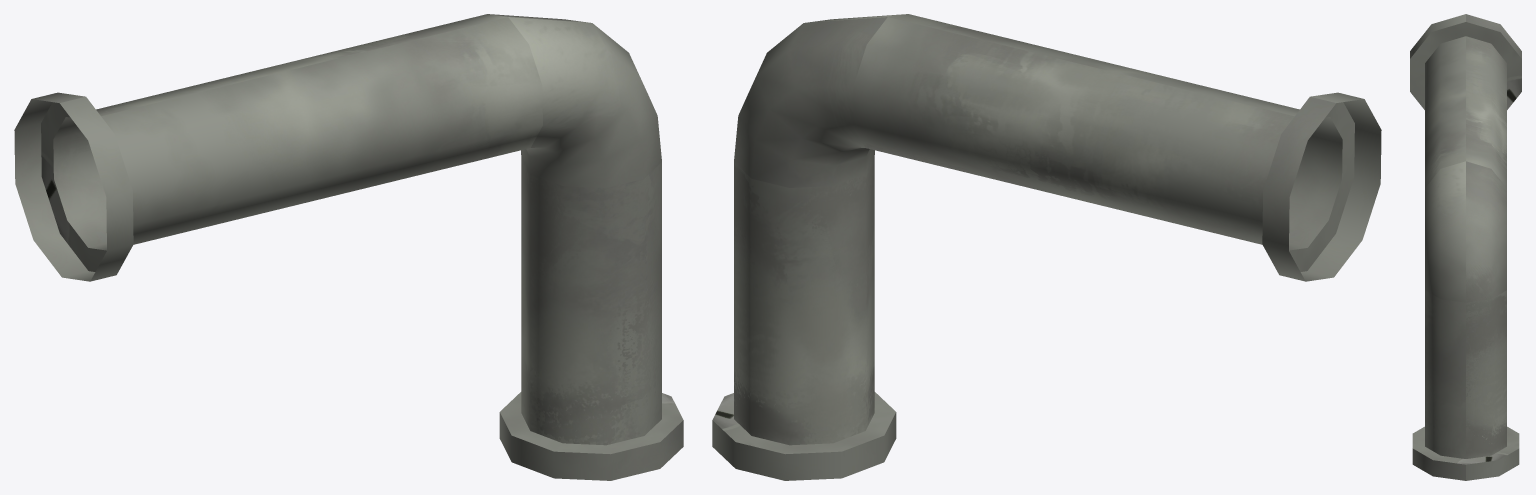
Rendered from pipe_2_04.fbx.
The picture shows the model from 3 angles, left to right: view 1: azimuth 30°, elevation 25°; view 2: azimuth 150°, elevation 25°; view 3: azimuth 270°, elevation 25°; orthographic projection. The views are drawn at different scales.
Visible parts, largest first — view 1: Object037; view 2: Object037; view 3: Object037.
Boxes of the visible parts, <box> form: Object037: <box>14,14,683,480</box>; Object037: <box>712,14,1381,480</box>; Object037: <box>1410,14,1521,480</box>.
Bounding box in the file's own units: 29.85 × 21.88 × 7.76.
